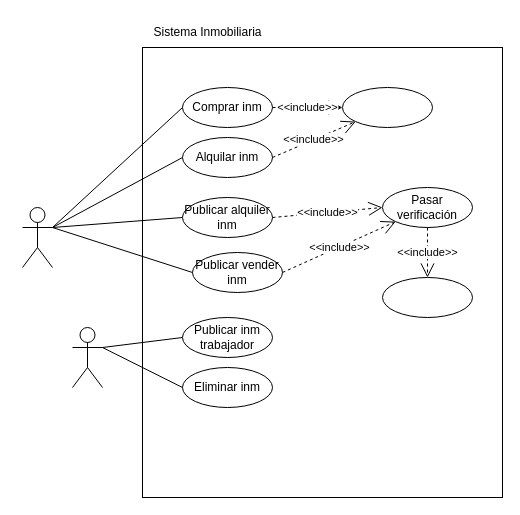
Image size: 520x515. Some labels were removed from this diagram. The centre of each missing label's shape, as x and y in pixels:
Desaparecer publicación: [387,107]
Mostrar datos: [427,297]
Trabajador: [87,357]
Usuario: [37,237]
